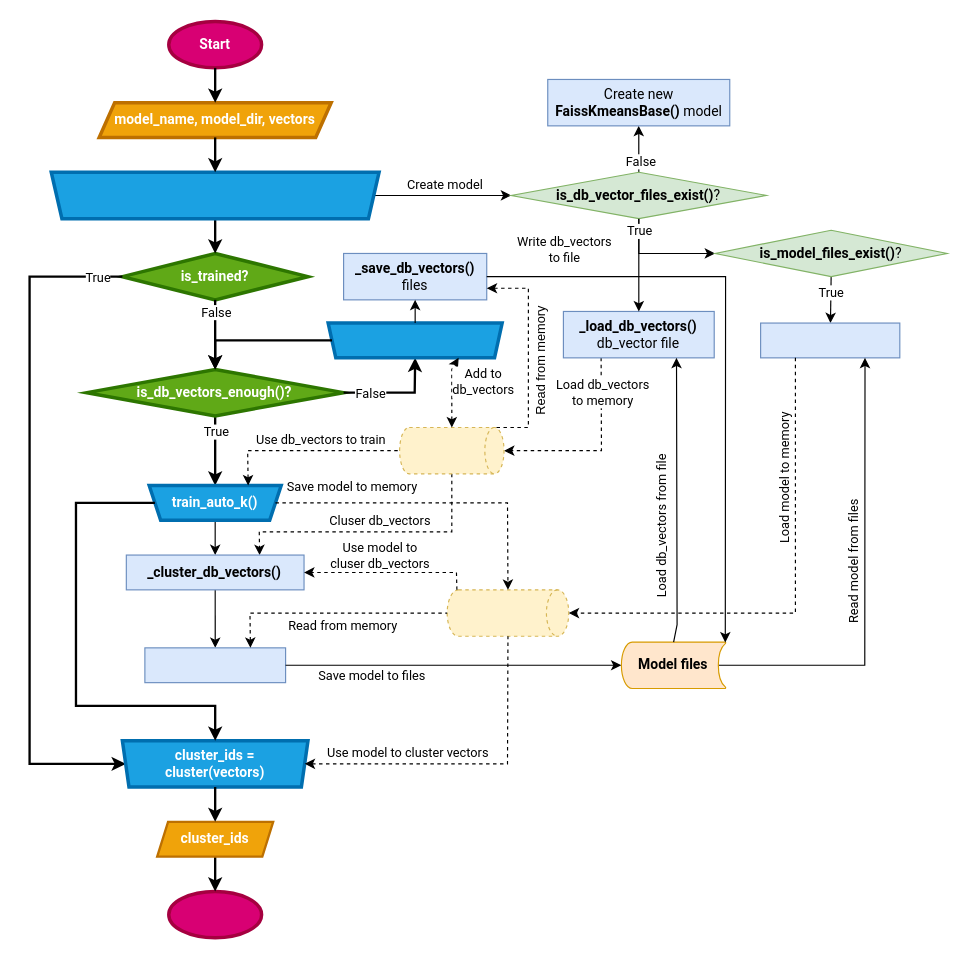
This 967x959 diagram has some shape labels left out. Each missing label, with the centre of its shape:
add_vectors(vectors): pixel 414 340
Create FaissKmeans(model_name, model_dir): pixel 214 195
db_vectors: pixel 451 450
Finish: pixel 214 914
Kmeans index model: pixel 507 612
load() model files: pixel 829 340
save() model files: pixel 215 665
